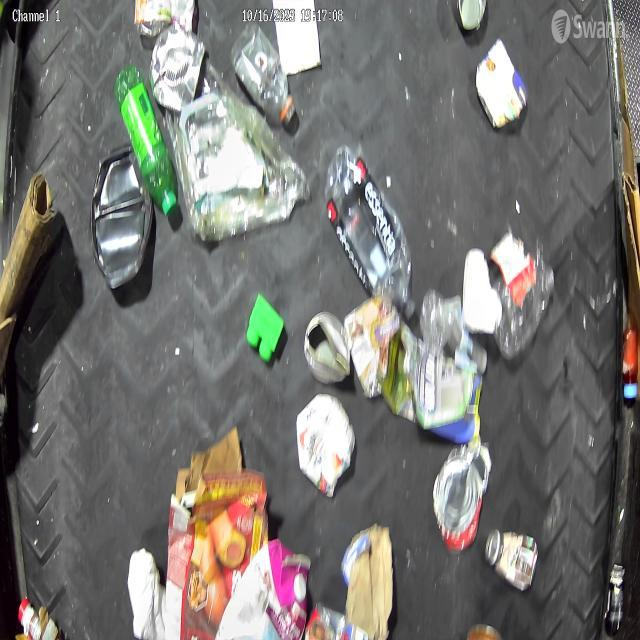can: (433, 443, 491, 551), (150, 19, 207, 112), (474, 35, 530, 128), (304, 312, 351, 384), (133, 0, 197, 39), (456, 0, 488, 32)
non_white_jug: (174, 91, 311, 241), (216, 538, 312, 640)
plastic_bottle: (323, 140, 418, 320), (230, 20, 298, 130), (491, 254, 555, 362), (420, 288, 490, 376)
